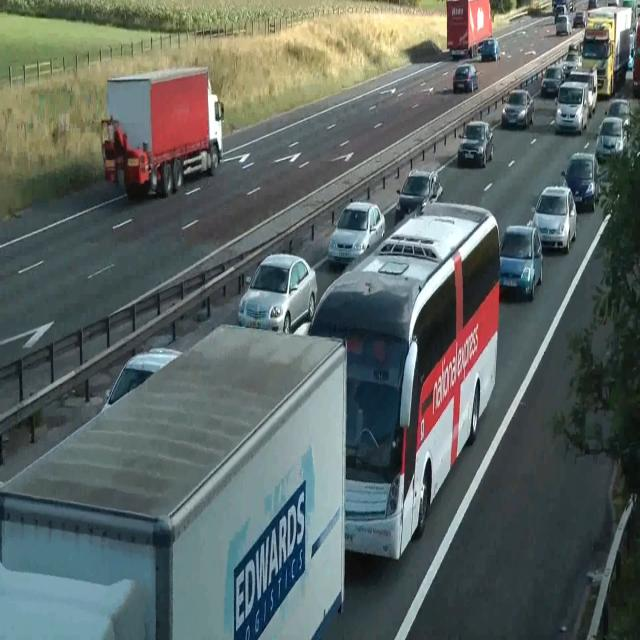bus: (237, 252, 317, 334), (105, 346, 183, 406), (328, 200, 386, 267), (499, 223, 543, 301), (529, 185, 577, 252), (560, 151, 600, 212), (395, 168, 443, 217), (457, 119, 493, 167), (595, 116, 627, 162), (501, 89, 534, 129), (605, 98, 633, 138), (541, 64, 565, 97), (452, 63, 478, 93), (480, 38, 500, 62), (564, 48, 582, 69), (553, 4, 567, 20), (573, 10, 585, 28)
car: (305, 199, 501, 561)
jeep: (554, 80, 588, 134), (567, 66, 597, 116), (555, 14, 572, 36)
minibus: (0, 323, 347, 639), (100, 65, 224, 199), (580, 5, 632, 98), (446, 0, 493, 59)
